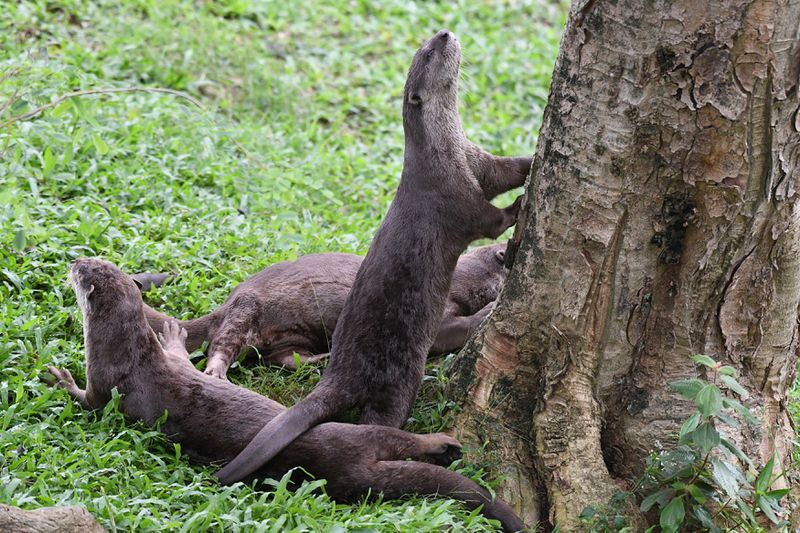otter: (35, 249, 521, 528), (288, 20, 538, 429)
